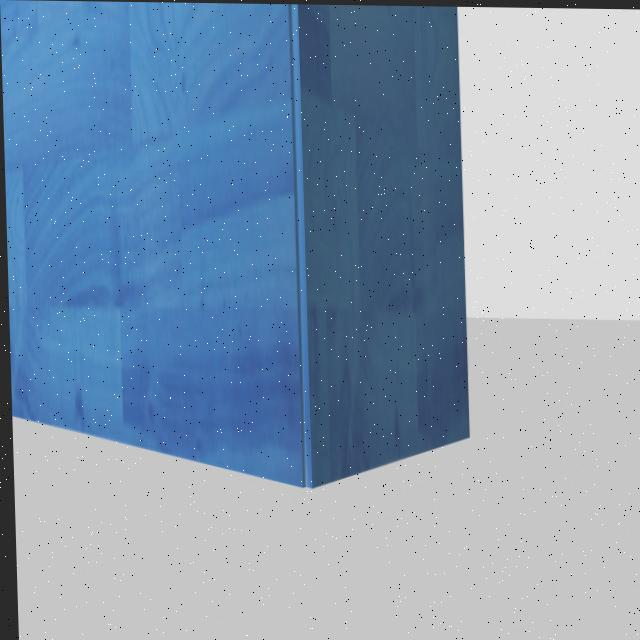shelf: (0, 0, 479, 525)
